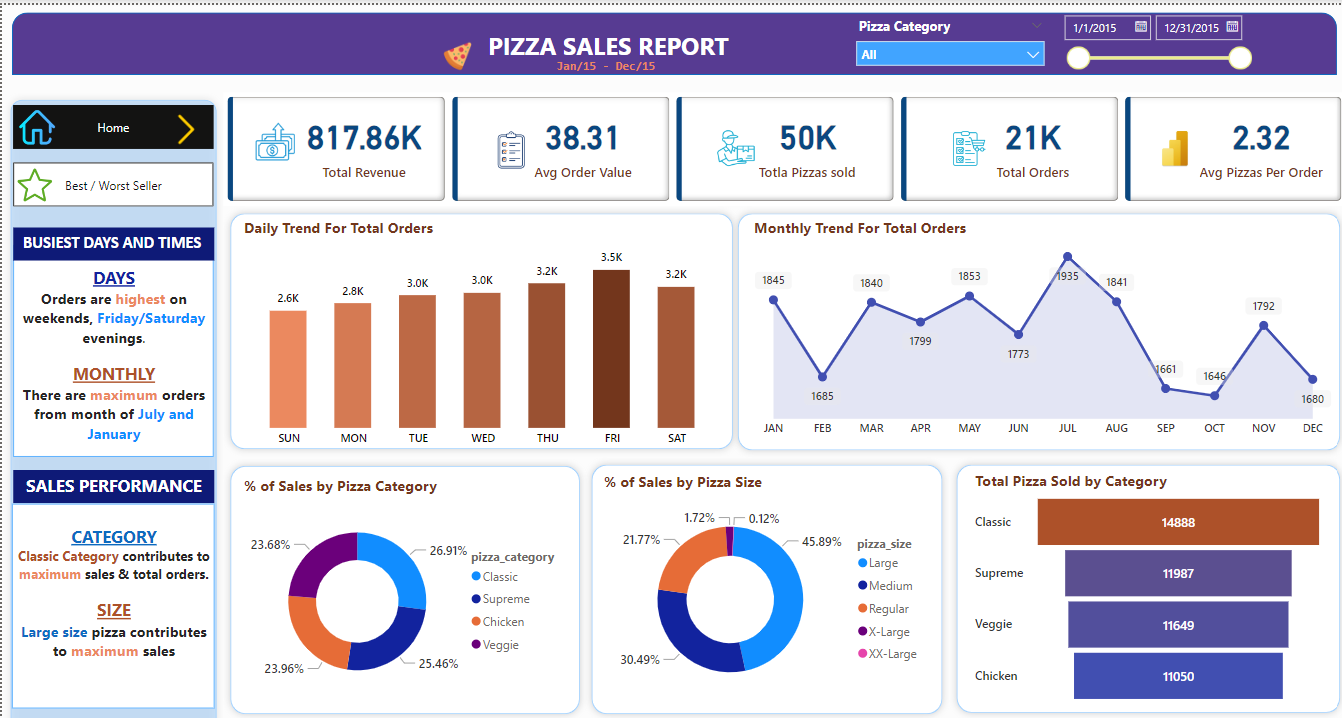

The dashboard page shown, as its layout file describes it:
{"tool":"powerbi","page":{"name":"Home","canvas":[1500,820],"ordinal":0},"visuals":[{"type":"cardVisual","fields":{"Data":["public pizzas.Total Revenue","public pizzas.Avg Order Value","public pizzas.Totla Pizzas sold","public pizzas.Total Orders","public pizzas.Avg Pizzas Per Order"]},"box":[246.5,97.5,1253.4,126.7],"z":0},{"type":"shape","box":[11.1,8.4,1476.2,69.6],"z":1000},{"type":"textbox","box":[529.2,18.1,292.5,50.1],"z":2000},{"type":"textbox","box":[615.6,48.7,147.6,37.6],"z":3000},{"type":"image","box":[447.8,36.2,118.8,42],"z":4000},{"type":"shape","box":[247.1,224.3,575.7,278.6],"z":5000},{"type":"columnChart","title":"Daily Trend For Total Orders","fields":{"Category":["public pizzas.Order day"],"Y":["public pizzas.Total Orders"]},"box":[264.6,236.8,543.1,264.6],"z":6000},{"type":"shape","box":[811.9,224.2,688,279.9],"z":7000},{"type":"areaChart","title":"Monthly Trend For Total Orders","fields":{"Category":["public pizzas.Order Month"],"Y":["public pizzas.Total Orders"]},"box":[832.8,236.8,654.6,253.5],"z":8000},{"type":"shape","box":[246.5,505.5,405.3,292.5],"z":9000},{"type":"shape","box":[649,504.1,406.7,293.9],"z":10000},{"type":"shape","box":[1055.6,504.1,444.3,292.5],"z":11000},{"type":"donutChart","title":"% of Sales by Pizza Category","fields":{"Category":["public pizzas.pizza_category"],"Y":["public pizzas.Total Revenue"]},"box":[264.6,523.6,371.8,260.4],"z":12000},{"type":"donutChart","title":"% of Sales by Pizza Size","fields":{"Y":["public pizzas.Total Revenue"],"Category":["public pizzas.pizza_size"]},"box":[665.7,519.5,371.8,264.6],"z":13000},{"type":"shape","box":[1.4,97.1,245.7,722.9],"z":14000},{"type":"funnel","title":"Total Pizza Sold by Category","fields":{"Category":["public pizzas.pizza_category"],"Y":["public pizzas.Totla Pizzas sold"]},"box":[1079.3,518.1,398.3,266],"z":15000},{"type":"textbox","box":[12.9,267.1,222.9,235.7],"z":16000},{"type":"textbox","box":[11.1,555.7,225.6,228.4],"z":17000},{"type":"textbox","box":[12.9,248.6,224.3,37.1],"z":18000},{"type":"textbox","box":[12.9,518.6,224.3,37.1],"z":19000},{"type":"slicer","fields":{"Values":["public pizzas.pizza_category"]},"box":[941.4,8.4,229.8,69.6],"z":20000},{"type":"slicer","fields":{"Values":["public pizzas.order_date"]},"box":[1171.2,1.4,229.8,78],"z":21000},{"type":"pageNavigator","box":[12.9,111,223.5,49.9],"z":22000},{"type":"pageNavigator","box":[12.9,175.3,223.5,49.9],"z":23000},{"type":"image","box":[173.7,117.4,62.7,43.4],"z":24000},{"type":"image","box":[11.3,111,56.3,49.9],"z":25000},{"type":"image","box":[12.9,173.7,48.2,53.1],"z":26000}]}

Visuals, with their boxes in screenshot pixels (x1, y1, x2, y2), scaled from the page's 1500x820 canvas onto the 1342x718 screenshot:
cardVisual - public pizzas.Total Revenue x public pizzas.Avg Order Value: {"x1": 221, "y1": 85, "x2": 1341, "y2": 196}
shape: {"x1": 10, "y1": 7, "x2": 1331, "y2": 68}
textbox: {"x1": 473, "y1": 16, "x2": 735, "y2": 60}
textbox: {"x1": 551, "y1": 43, "x2": 683, "y2": 76}
image: {"x1": 401, "y1": 32, "x2": 507, "y2": 68}
shape: {"x1": 221, "y1": 196, "x2": 736, "y2": 440}
"Daily Trend For Total Orders" columnChart: {"x1": 237, "y1": 207, "x2": 723, "y2": 439}
shape: {"x1": 726, "y1": 196, "x2": 1341, "y2": 441}
"Monthly Trend For Total Orders" areaChart: {"x1": 745, "y1": 207, "x2": 1331, "y2": 429}
shape: {"x1": 221, "y1": 443, "x2": 583, "y2": 699}
shape: {"x1": 581, "y1": 441, "x2": 944, "y2": 699}
shape: {"x1": 944, "y1": 441, "x2": 1341, "y2": 698}
"% of Sales by Pizza Category" donutChart: {"x1": 237, "y1": 458, "x2": 569, "y2": 686}
"% of Sales by Pizza Size" donutChart: {"x1": 596, "y1": 455, "x2": 928, "y2": 687}
shape: {"x1": 1, "y1": 85, "x2": 221, "y2": 717}
"Total Pizza Sold by Category" funnel: {"x1": 966, "y1": 454, "x2": 1322, "y2": 687}
textbox: {"x1": 12, "y1": 234, "x2": 211, "y2": 440}
textbox: {"x1": 10, "y1": 487, "x2": 212, "y2": 687}
textbox: {"x1": 12, "y1": 218, "x2": 212, "y2": 250}
textbox: {"x1": 12, "y1": 454, "x2": 212, "y2": 487}
slicer - public pizzas.pizza_category: {"x1": 842, "y1": 7, "x2": 1048, "y2": 68}
slicer - public pizzas.order_date: {"x1": 1048, "y1": 1, "x2": 1253, "y2": 70}
pageNavigator: {"x1": 12, "y1": 97, "x2": 211, "y2": 141}
pageNavigator: {"x1": 12, "y1": 153, "x2": 211, "y2": 197}
image: {"x1": 155, "y1": 103, "x2": 211, "y2": 141}
image: {"x1": 10, "y1": 97, "x2": 60, "y2": 141}
image: {"x1": 12, "y1": 152, "x2": 55, "y2": 199}
